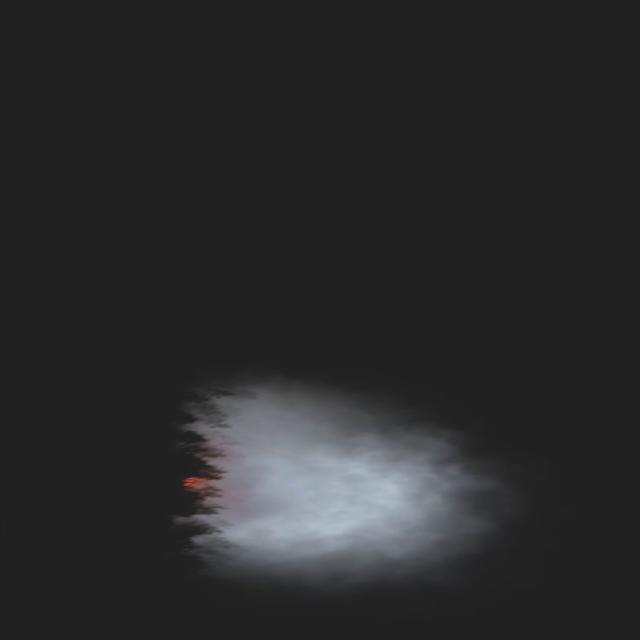smoke: (194, 377, 501, 593)
